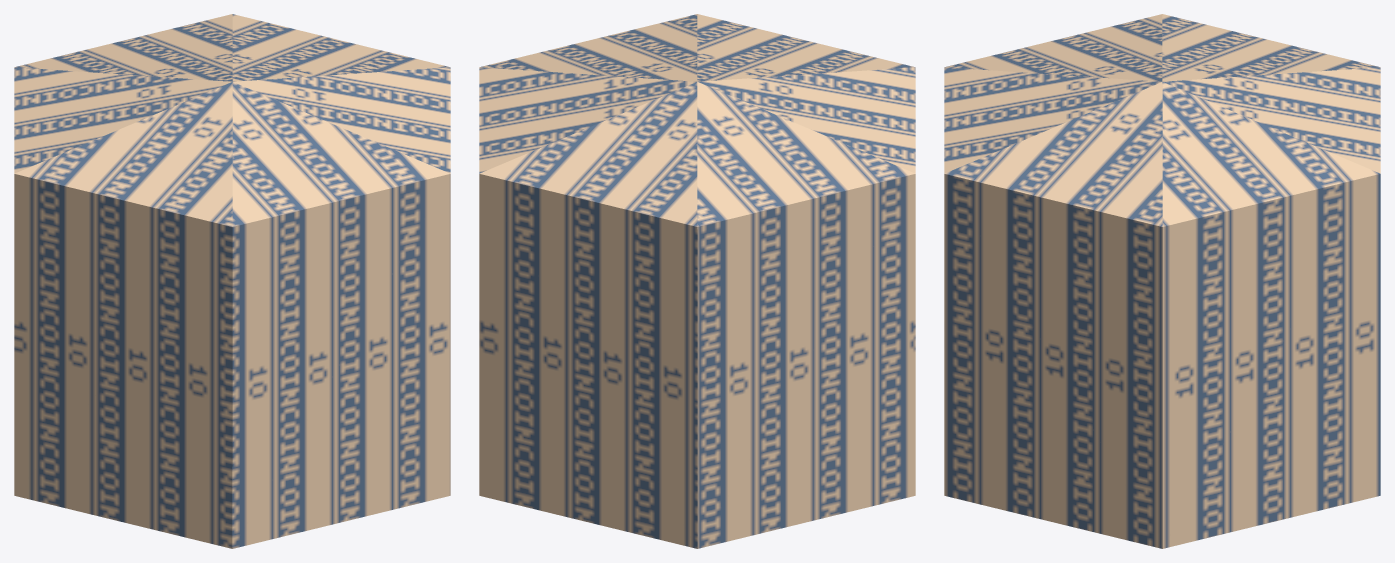
The model's file is Coin Roll.fbx.
3 renders of one model, left to right at view 1: azimuth 30°, elevation 25°; view 2: azimuth 150°, elevation 25°; view 3: azimuth 270°, elevation 25°, orthographic.
Parts seen in each view (by area): view 1: (Blue) CoinRoll; view 2: (Blue) CoinRoll; view 3: (Blue) CoinRoll.
Part boxes in pixels (left/top/right/bottom): (Blue) CoinRoll: left=14, top=14, right=450, bottom=548; (Blue) CoinRoll: left=479, top=14, right=915, bottom=548; (Blue) CoinRoll: left=944, top=14, right=1380, bottom=548.
Size of the model in its own units: 200 by 174 by 173.
